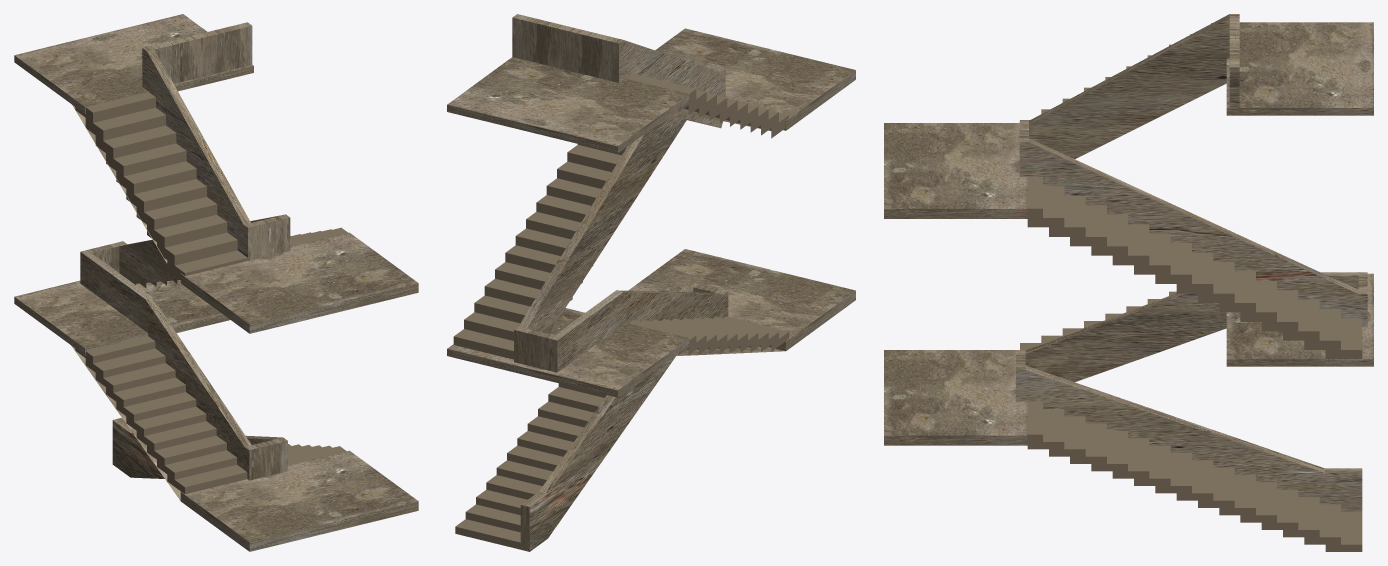
3 renders of one model, left to right at view 1: azimuth 30°, elevation 25°; view 2: azimuth 150°, elevation 25°; view 3: azimuth 270°, elevation 25°, orthographic. The views are drawn at different scales.
Visible parts, largest first — view 1: Cube.127_9, Stairs.018_0, Cube.129_7, Cube.126_10, Stairs.017_1, Cube.130_6, Cube.128_8, Stairs.015_3, Stairs.016_2, Plane.004_5; view 2: Cube.127_9, Cube.130_6, Stairs.016_2, Cube.126_10, Stairs.015_3, Cube.129_7, Cube.128_8, Stairs.017_1, Stairs.018_0; view 3: Cube.127_9, Stairs.016_2, Stairs.015_3, Cube.129_7, Cube.126_10, Cube.130_6, Cube.128_8, Stairs.017_1.
Part boxes in pixels (left/top/right/bottom): Cube.127_9: left=80, top=22, right=290, bottom=480; Stairs.018_0: left=75, top=92, right=247, bottom=279; Cube.129_7: left=180, top=232, right=418, bottom=333; Cube.126_10: left=180, top=450, right=418, bottom=551; Stairs.017_1: left=75, top=336, right=247, bottom=494; Cube.130_6: left=14, top=14, right=253, bottom=113; Cube.128_8: left=14, top=280, right=229, bottom=355; Stairs.015_3: left=288, top=444, right=346, bottom=465; Stairs.016_2: left=134, top=227, right=347, bottom=287; Plane.004_5: left=71, top=345, right=180, bottom=500; Cube.127_9: left=512, top=14, right=728, bottom=551; Cube.130_6: left=447, top=57, right=689, bottom=153; Stairs.016_2: left=453, top=144, right=626, bottom=359; Cube.126_10: left=628, top=249, right=855, bottom=350; Stairs.015_3: left=455, top=383, right=606, bottom=549; Cube.129_7: left=655, top=28, right=855, bottom=130; Cube.128_8: left=447, top=308, right=689, bottom=397; Stairs.017_1: left=629, top=316, right=789, bottom=355; Stairs.018_0: left=626, top=73, right=789, bottom=138; Cube.127_9: left=1016, top=14, right=1367, bottom=511; Stairs.016_2: left=1027, top=177, right=1362, bottom=358; Stairs.015_3: left=1027, top=401, right=1362, bottom=551; Cube.129_7: left=884, top=123, right=1027, bottom=218; Cube.126_10: left=884, top=350, right=1027, bottom=445; Cube.130_6: left=1226, top=22, right=1373, bottom=115; Cube.128_8: left=1226, top=273, right=1373, bottom=366; Stairs.017_1: left=1020, top=291, right=1176, bottom=350.
Size of the model in its own units: 2.66 by 7.02 by 6.42.
1 material, 1 textured.
